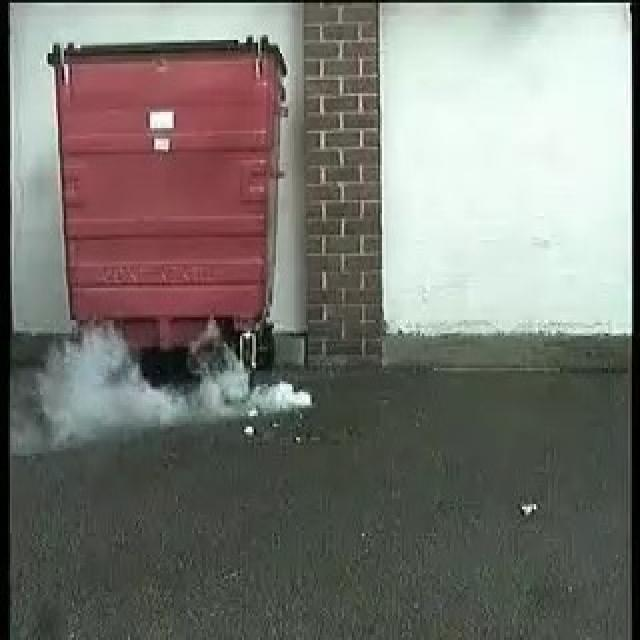smoke: (38, 321, 314, 436)
